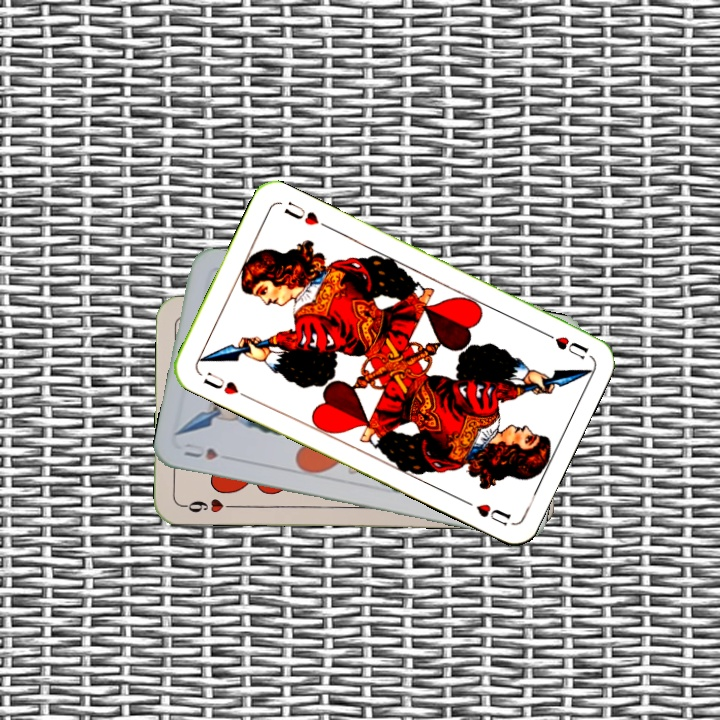H9: (178, 495, 237, 516)
HU: (537, 326, 591, 362), (199, 368, 241, 398), (180, 439, 221, 463)
